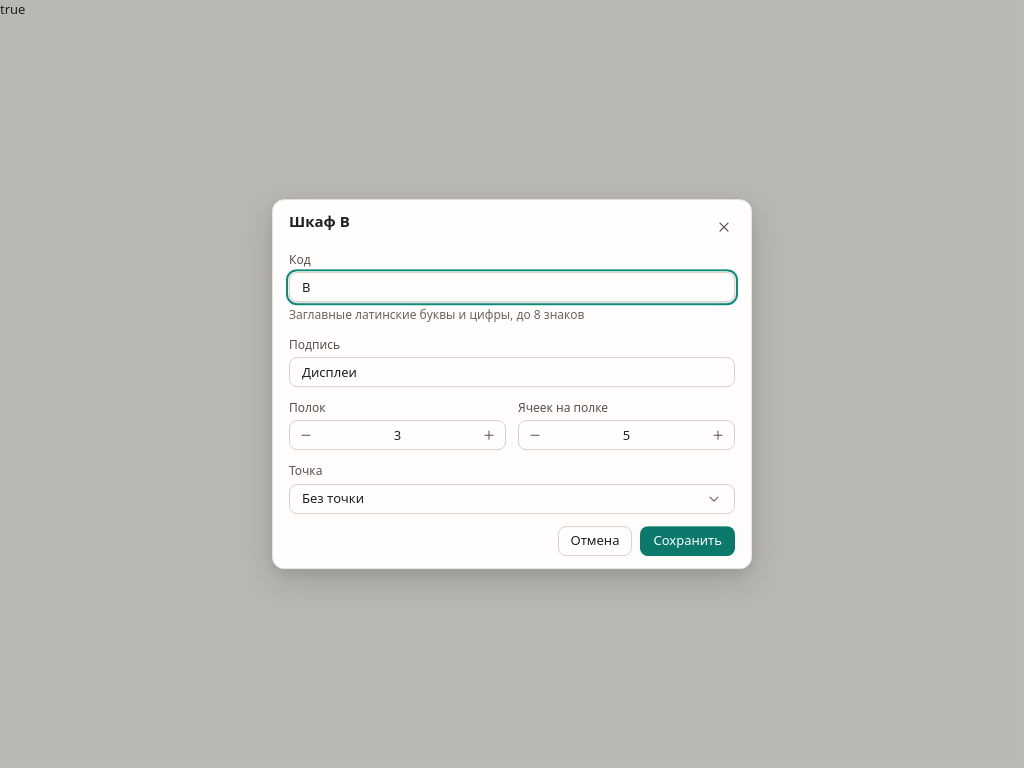
Scenario: RackDialog › warns when codes will change
This screenshot has width=1024, height=768.
Expected: the text "Коды ячеек изменятся — перепечатайте наклейки шкафа" is not shown
Step 1. Replace the text in the field labelled "Ячеек на полке" with "1" → (626, 436), box [555, 422, 698, 450]
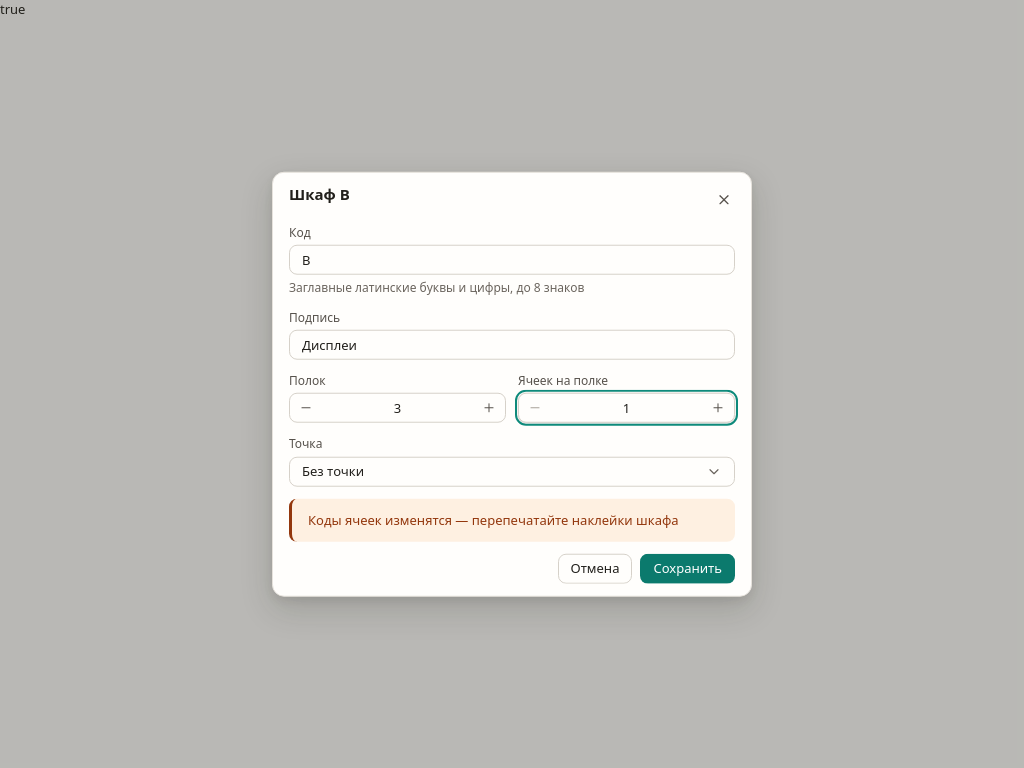
Now the text "Коды ячеек изменятся — перепечатайте наклейки шкафа" is shown, box [308, 510, 679, 529]
Step 2. Replace the text in the field labelled "Ячеек на полке" with "6" → (626, 408), box [555, 394, 698, 422]
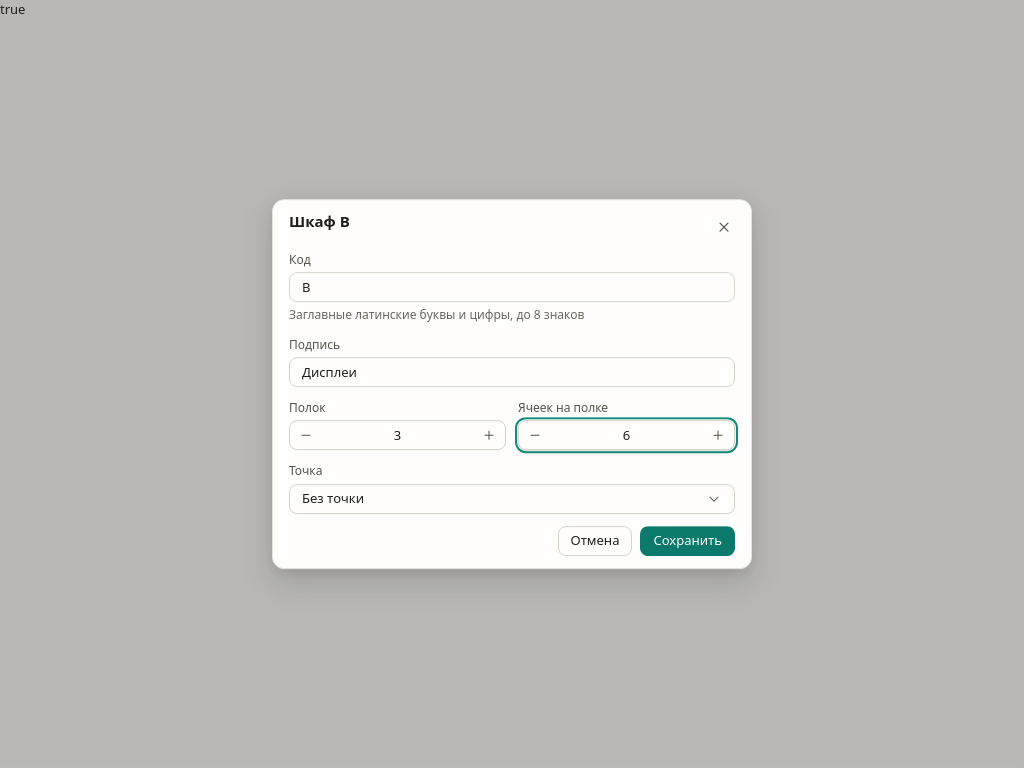
Now the text "Коды ячеек изменятся — перепечатайте наклейки шкафа" is gone
